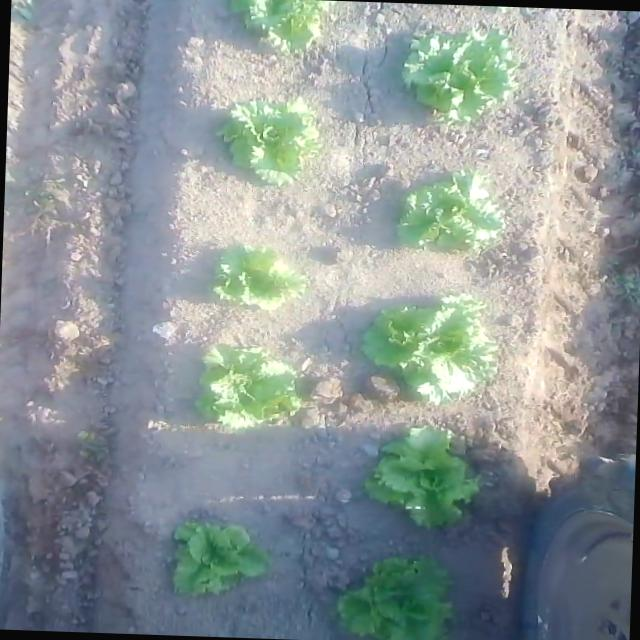Lettuce-Ready-to-Harvest: (193, 344, 299, 431), (208, 242, 309, 314)
